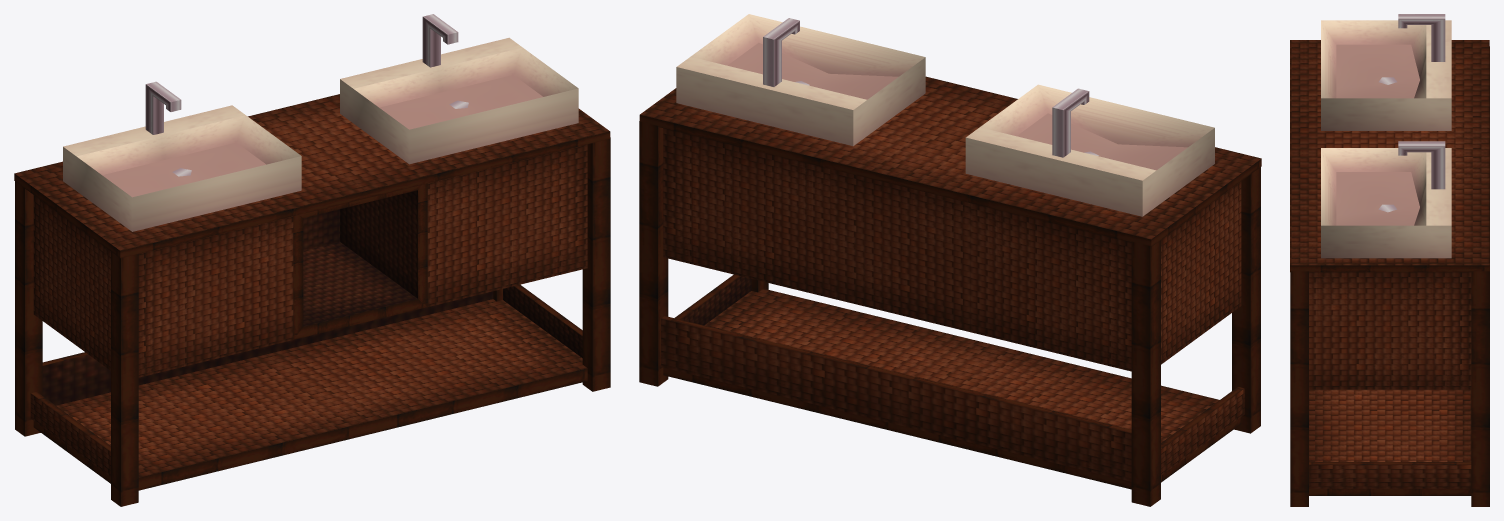
The model's file is Rattan_Sink_01.FBX.
3 renders of one model, left to right at view 1: azimuth 30°, elevation 25°; view 2: azimuth 150°, elevation 25°; view 3: azimuth 270°, elevation 25°, orthographic. The views are drawn at different scales.
Visible parts, largest first — view 1: Rattan_Sink_01; view 2: Rattan_Sink_01; view 3: Rattan_Sink_01.
Part boxes in pixels (x1=…): Rattan_Sink_01: x1=14, y1=14, x2=610, y2=506; Rattan_Sink_01: x1=639, y1=14, x2=1261, y2=506; Rattan_Sink_01: x1=1290, y1=14, x2=1489, y2=506.
Bounding box in the file's own units: 1.52 × 0.568 × 0.9938.
